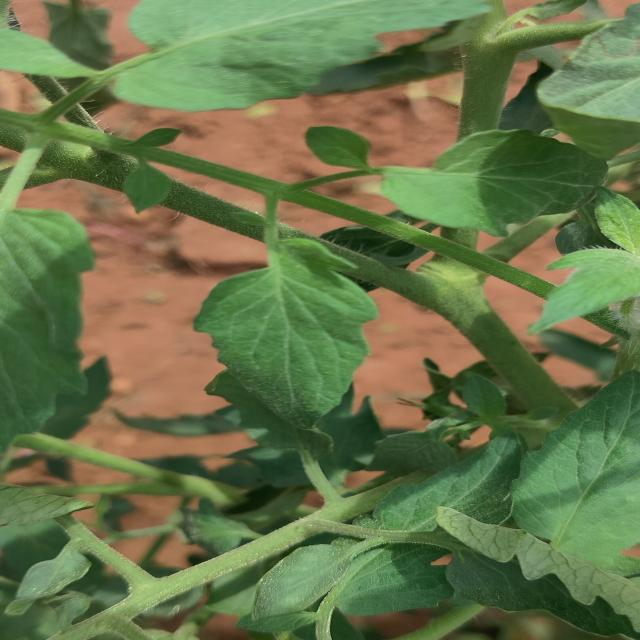tomato_healthy: (196, 230, 368, 432), (364, 113, 633, 235)
